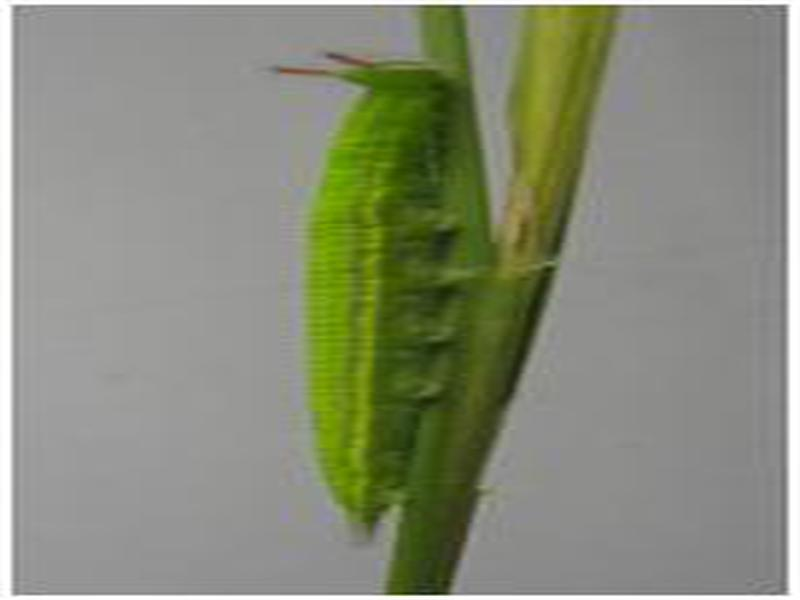Rice_horned_caterpillar: (270, 44, 493, 527)
